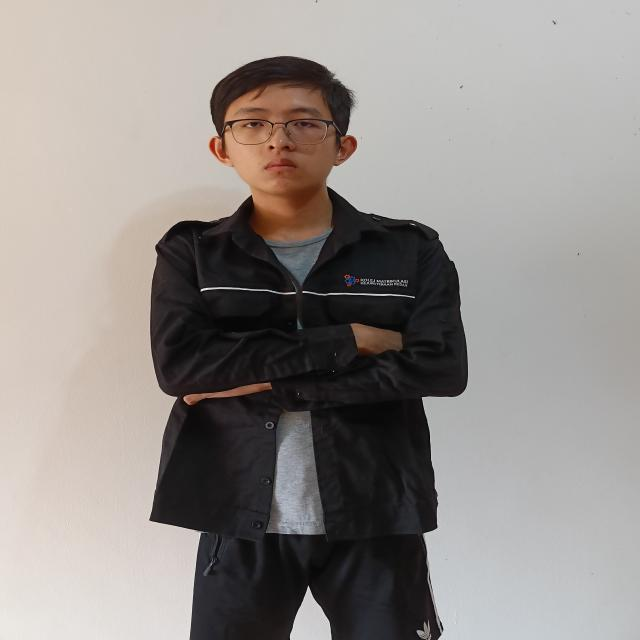person_with_labcoat: (150, 56, 467, 640)
